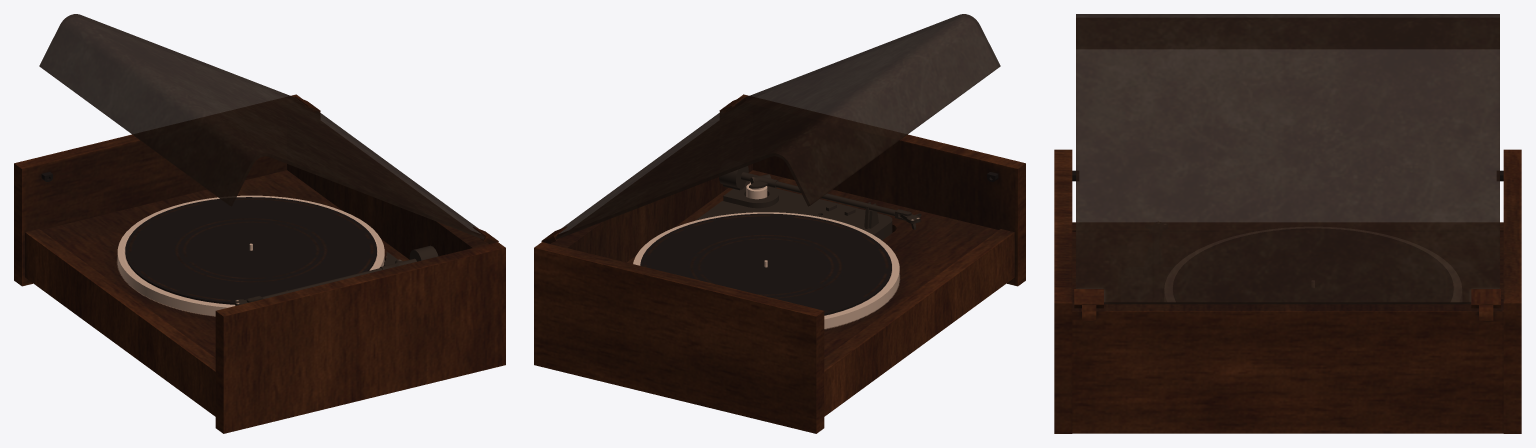
Rendered from vinyl_player.glb.
3 renders of one model, left to right at view 1: azimuth 30°, elevation 25°; view 2: azimuth 150°, elevation 25°; view 3: azimuth 270°, elevation 25°, orthographic. The views are drawn at different scales.
Visible parts, largest first — view 1: low; view 2: low; view 3: low.
Part boxes in pixels (<box>): low: <box>14,14,505,433</box>; low: <box>534,14,1025,433</box>; low: <box>1054,14,1521,433</box>.
Size of the model in its own units: 667 by 579 by 842.
1 material, 1 textured.
